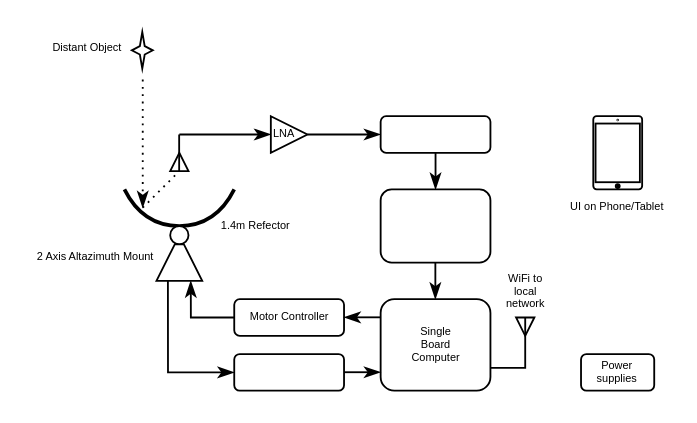
The diagram is 697 pixels wide and 423 high, and some of its shapes have lost their labels. The shapes that lost their labels are listed below. From the top down, each one's box as (x1, y1, x2, y2) in pixels, then its label:
(379, 114, 490, 153): EQ, Filter, Amps
(379, 188, 490, 263): Software Defined Radio
(232, 352, 344, 391): Position Sensors
